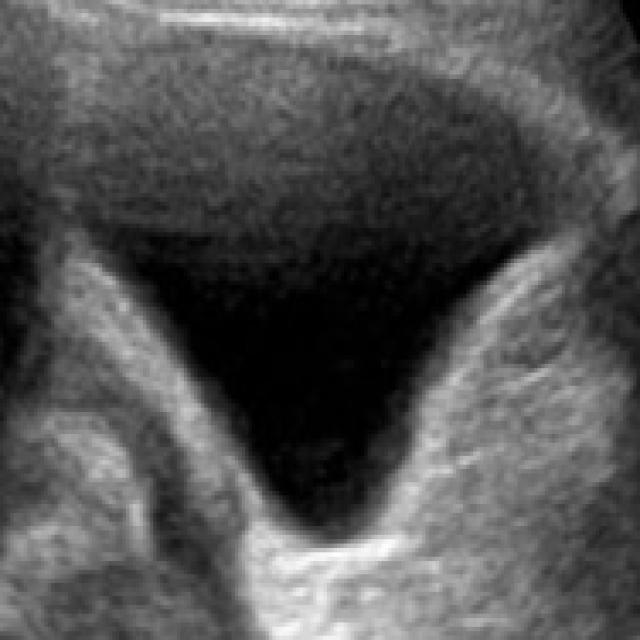bladder: (54, 4, 601, 602)
